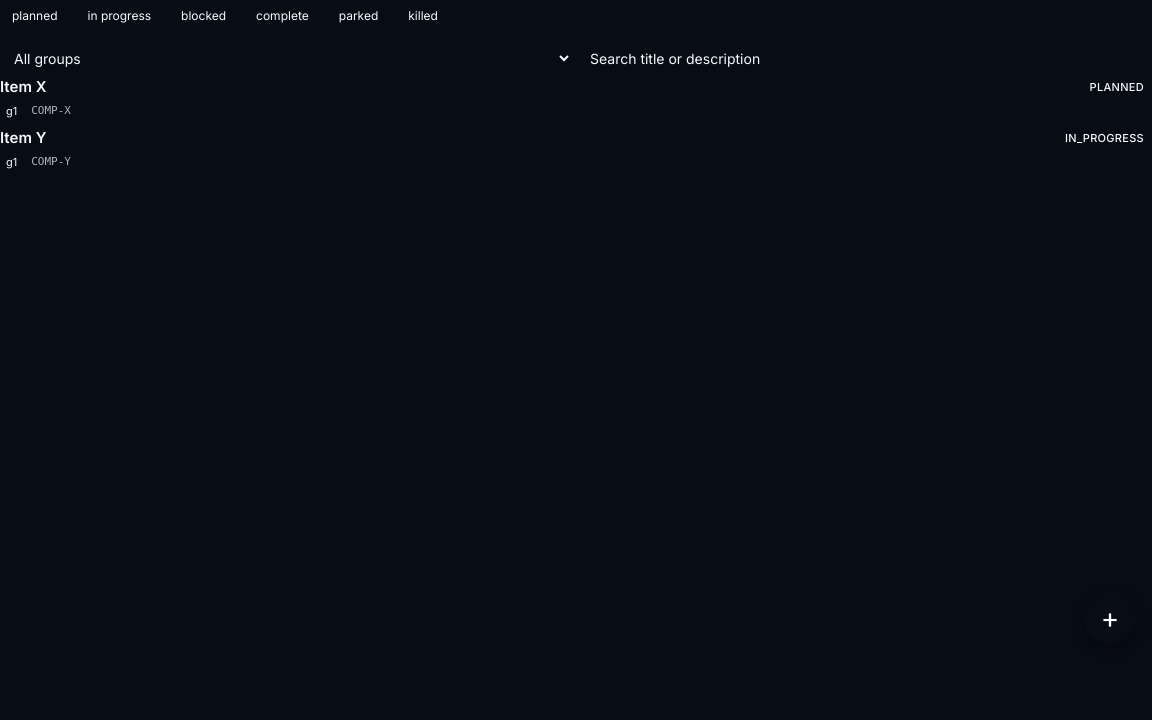
Test: S3: ItemDetailSheet deleteArmed disarms on field interaction › changing confidence field disarms a pending delete
Click the button with test id "mobile-item-card-COMP-X" at (23, 86), box [0,77,1151,120]
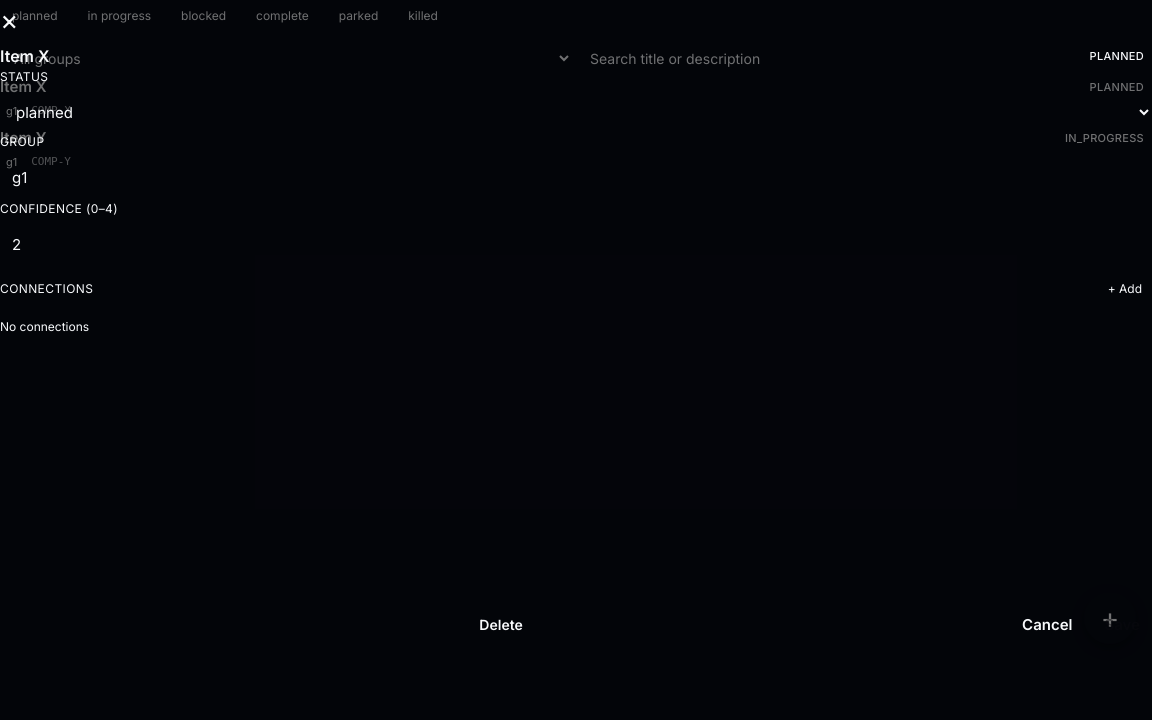
Now the dialog with test id "mobile-item-sheet" is shown
Click the button with test id "mobile-item-sheet-delete" at (501, 625), box [0,602,1002,648]
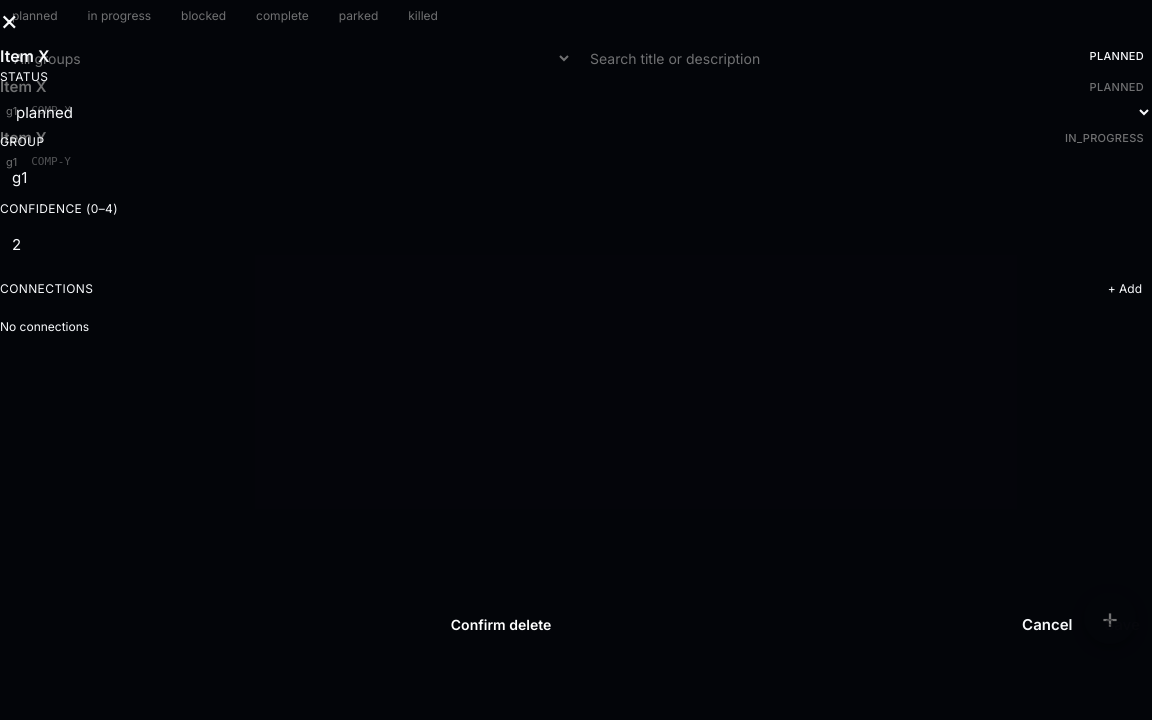
Now the button with test id "mobile-item-sheet-delete" shows "Confirm", box [0,602,1002,648]
Replace the text in the number field with test id "mobile-item-sheet-confidence" with "3" at (576, 245), box [0,224,1151,266]
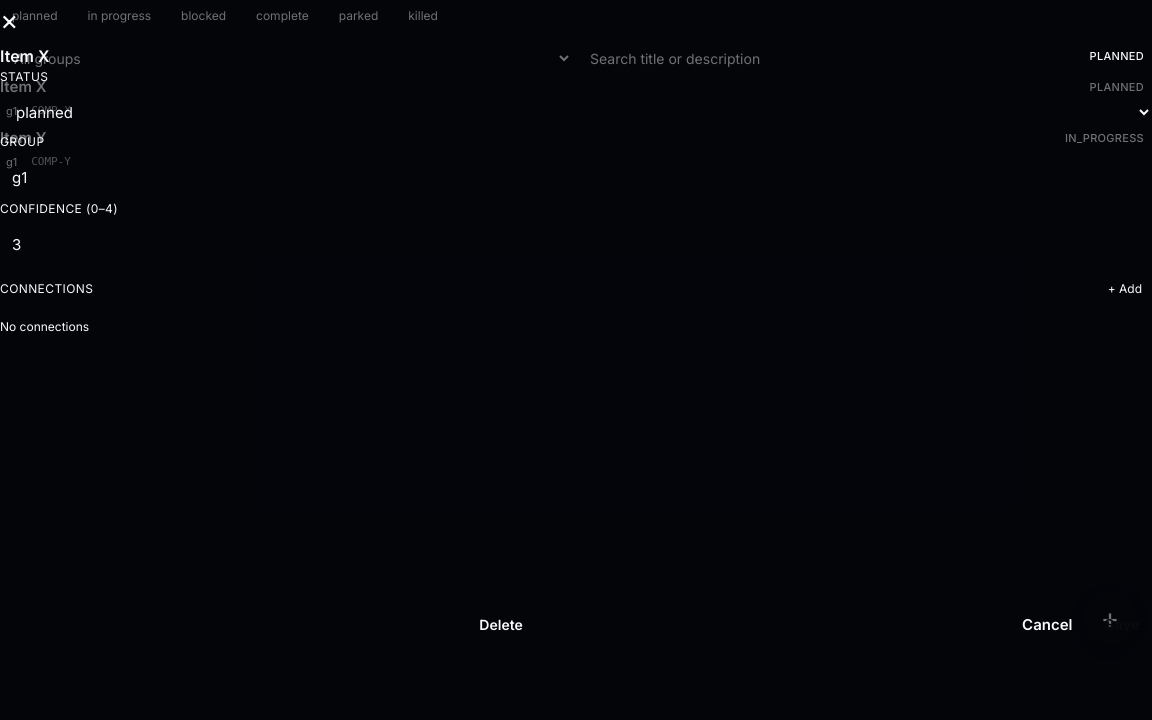
Now the button with test id "mobile-item-sheet-delete" no longer shows "Confirm"
